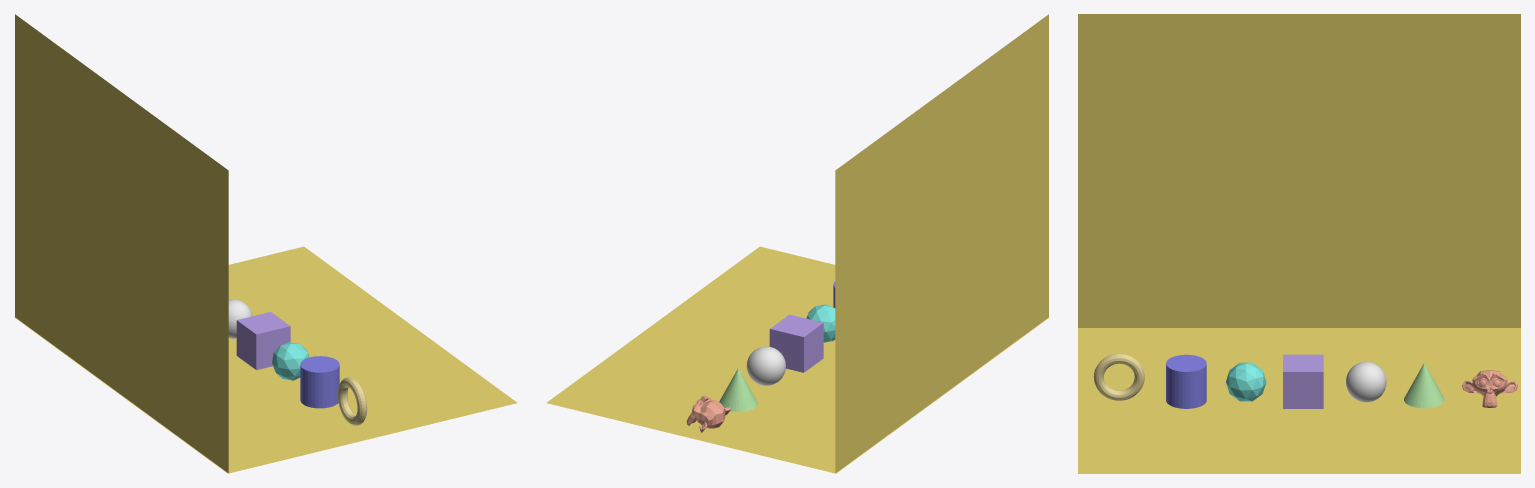
The model's file is tutorial _01.glb.
The picture shows the model from 3 angles, left to right: view 1: azimuth 30°, elevation 25°; view 2: azimuth 150°, elevation 25°; view 3: azimuth 270°, elevation 25°; orthographic projection. The views are drawn at different scales.
Visible parts, largest first — view 1: Plane.001, Plane, Cube, Cylinder, Icosphere, Torus, Sphere; view 2: Plane.001, Plane, Cube, Sphere, Cone, Suzanne, Icosphere; view 3: Plane.001, Plane, Cube, Cylinder, Sphere, Torus, Icosphere, Suzanne, Cone.
Part boxes in pixels (<box>): Plane.001: <box>15,14,228,473</box>; Plane: <box>14,246,517,473</box>; Cube: <box>236,312,290,369</box>; Cylinder: <box>300,356,339,408</box>; Icosphere: <box>272,342,309,380</box>; Torus: <box>337,377,367,425</box>; Sphere: <box>228,299,252,338</box>; Plane.001: <box>835,14,1048,473</box>; Plane: <box>546,246,1049,473</box>; Cube: <box>769,314,823,372</box>; Sphere: <box>746,346,785,385</box>; Cone: <box>719,368,757,411</box>; Suzanne: <box>686,395,730,432</box>; Icosphere: <box>806,304,835,342</box>; Plane.001: <box>1078,14,1520,327</box>; Plane: <box>1078,328,1520,473</box>; Cube: <box>1283,354,1323,408</box>; Cylinder: <box>1166,354,1206,408</box>; Sphere: <box>1346,361,1386,402</box>; Torus: <box>1093,353,1144,400</box>; Icosphere: <box>1226,362,1266,401</box>; Suzanne: <box>1462,370,1517,407</box>; Cone: <box>1404,363,1444,408</box>.
Bounding box in the file's own units: 17 × 17 × 21.71.
